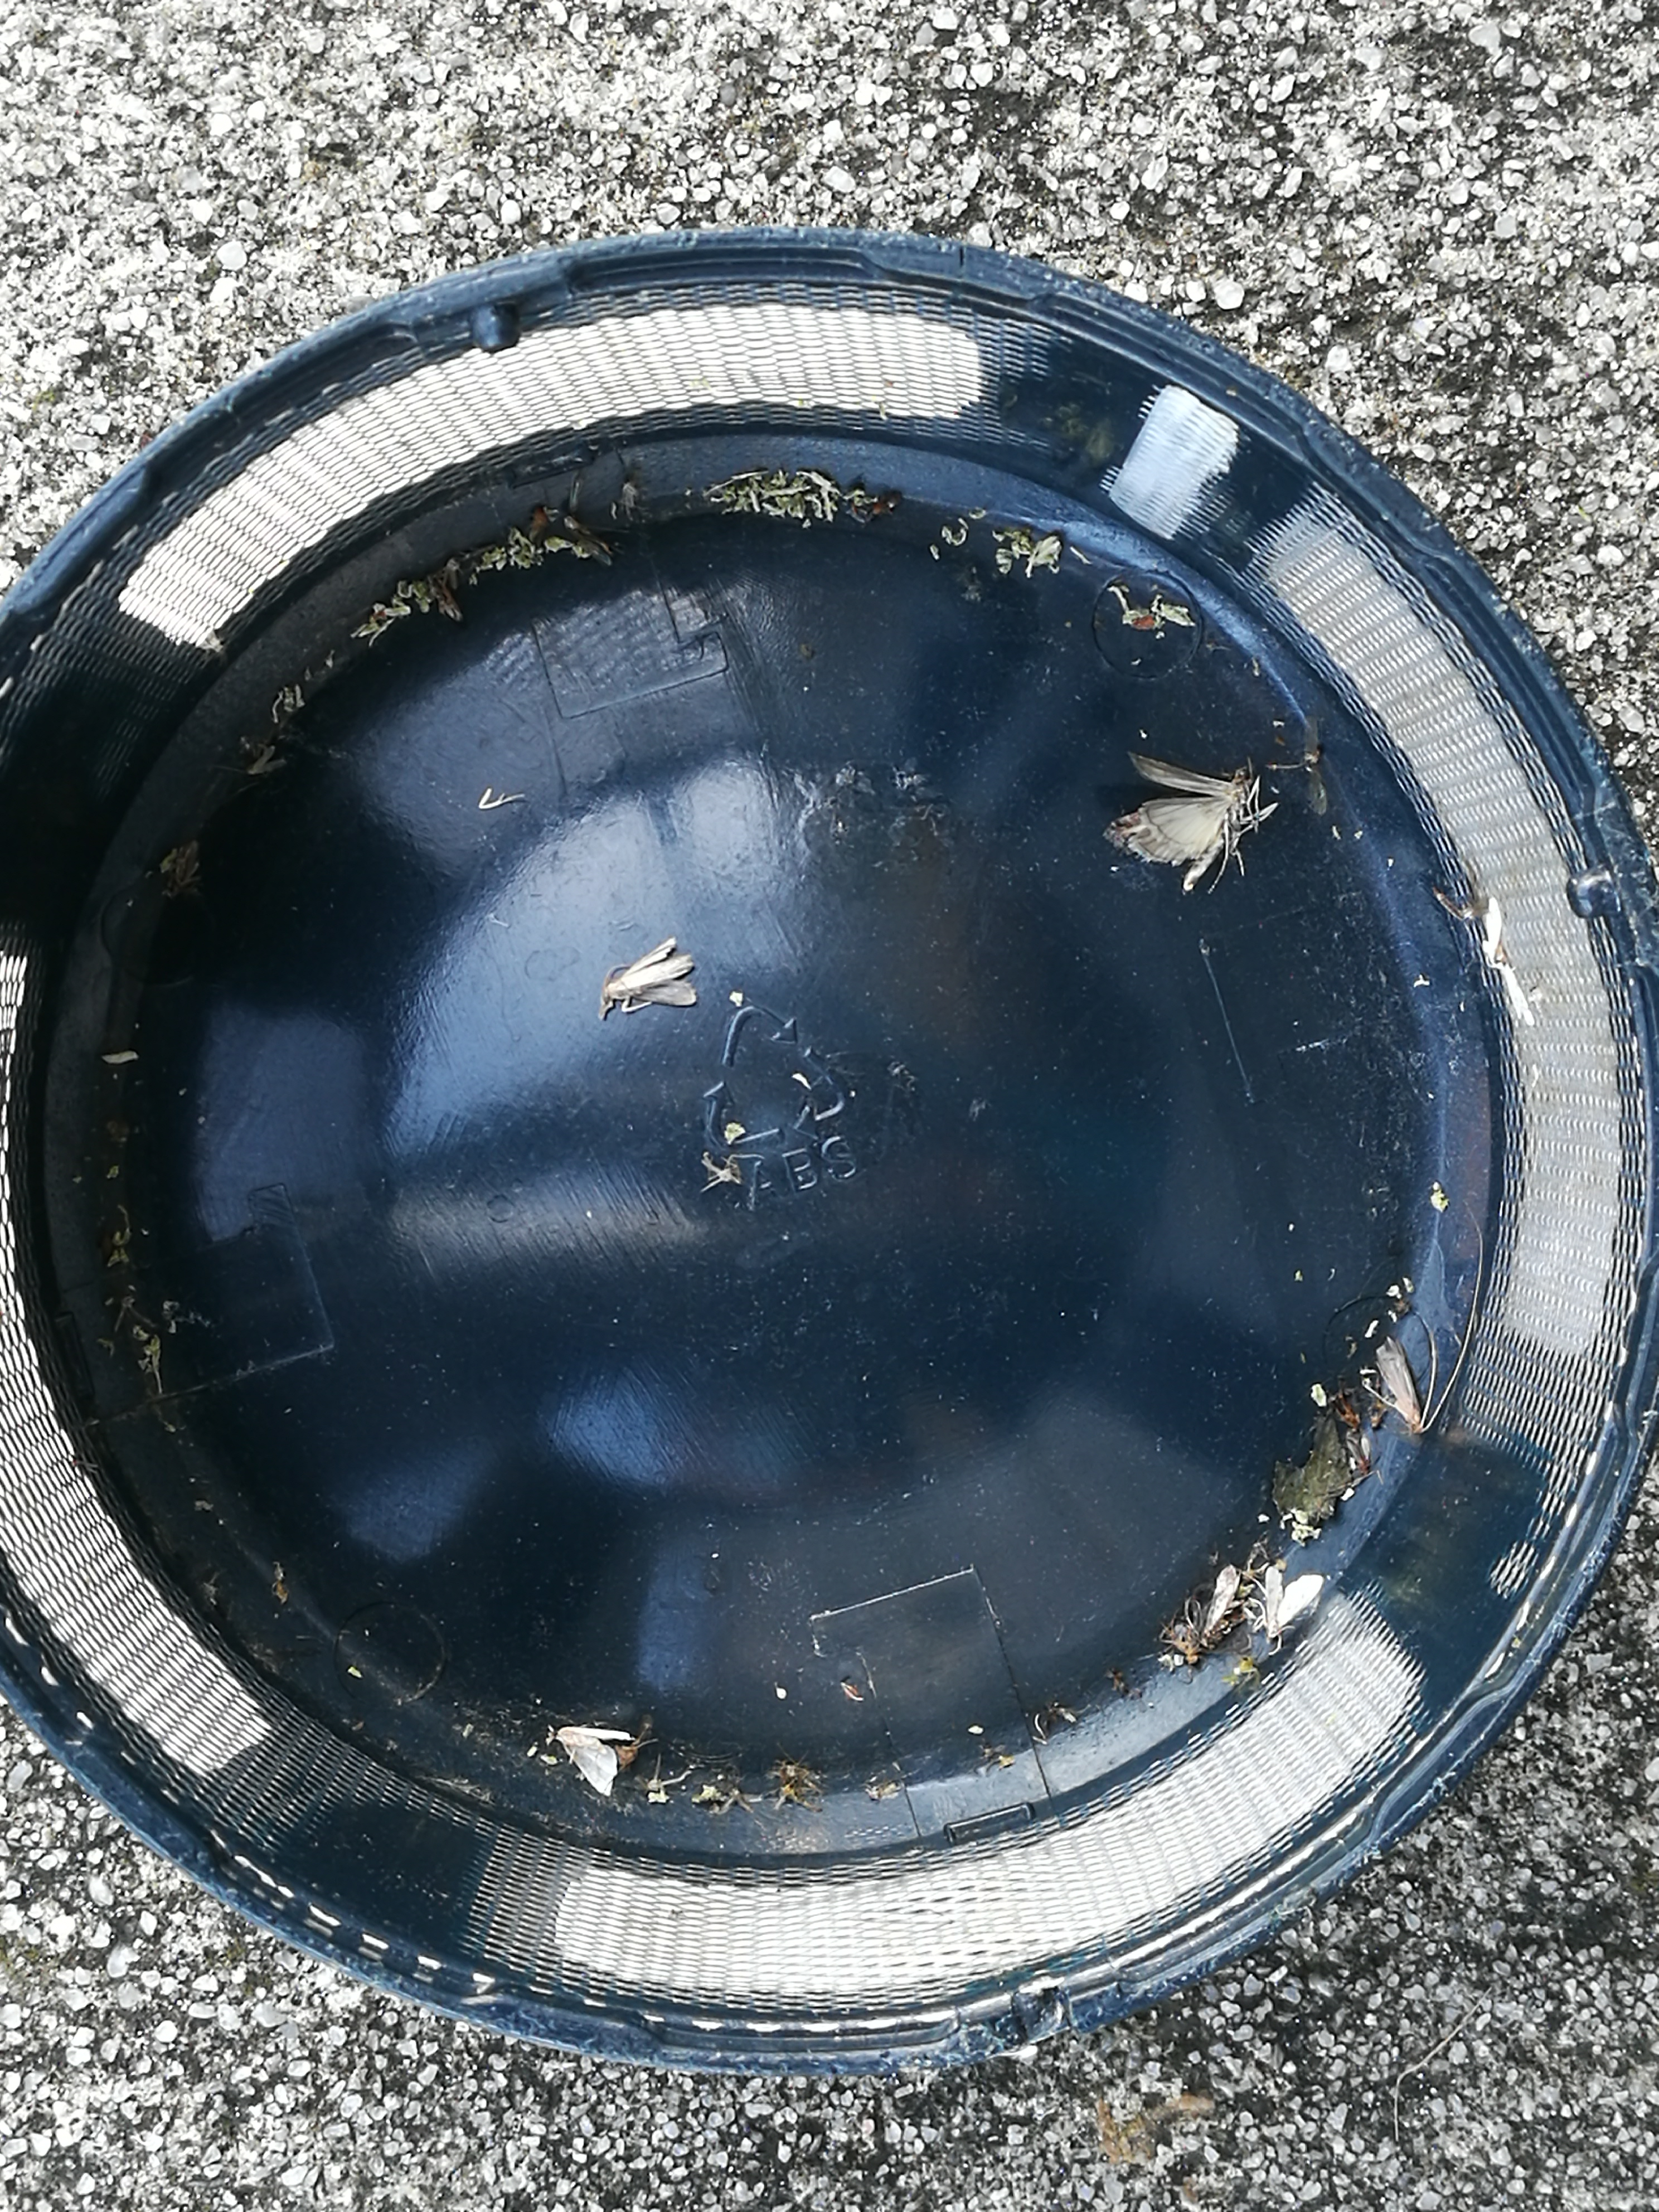mosquito: (1375, 1338, 1420, 1425), (1202, 1566, 1237, 1649), (429, 571, 460, 622)
moth: (1103, 751, 1246, 890), (601, 937, 695, 1021), (552, 1728, 633, 1796), (1263, 1566, 1323, 1639)
